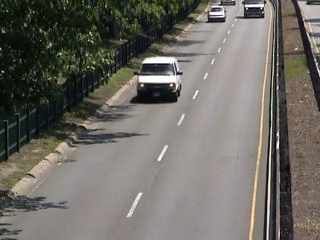car: (206, 5, 228, 25)
truck: (132, 55, 185, 103), (242, 1, 269, 21)
